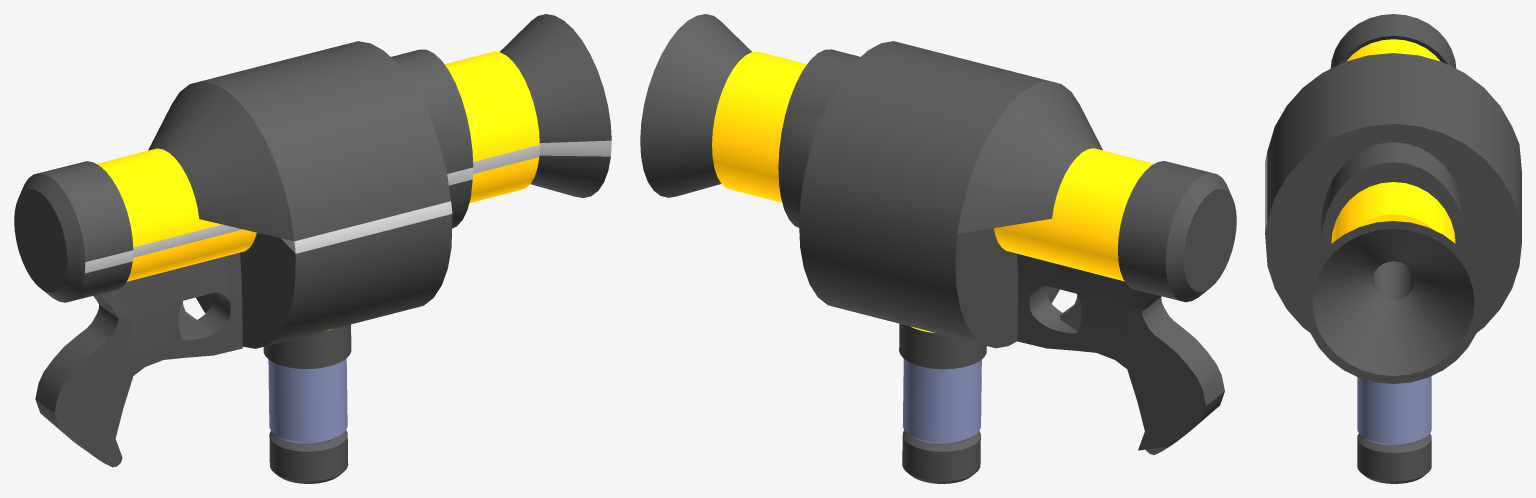
The model's file is Gun.fbx.
3 views of the same model, side by side, from view 1: azimuth 30°, elevation 25°; view 2: azimuth 150°, elevation 25°; view 3: azimuth 270°, elevation 25° (orthographic). The views are drawn at different scales.
Visible parts, largest first — view 1: Gun; view 2: Gun; view 3: Gun.
Boxes of the visible parts, left/top/right/bottom form: Gun: left=14, top=14, right=611, bottom=483; Gun: left=640, top=14, right=1236, bottom=483; Gun: left=1265, top=14, right=1521, bottom=483.
Size of the model in its own units: 97.73 by 71.43 by 43.6.
